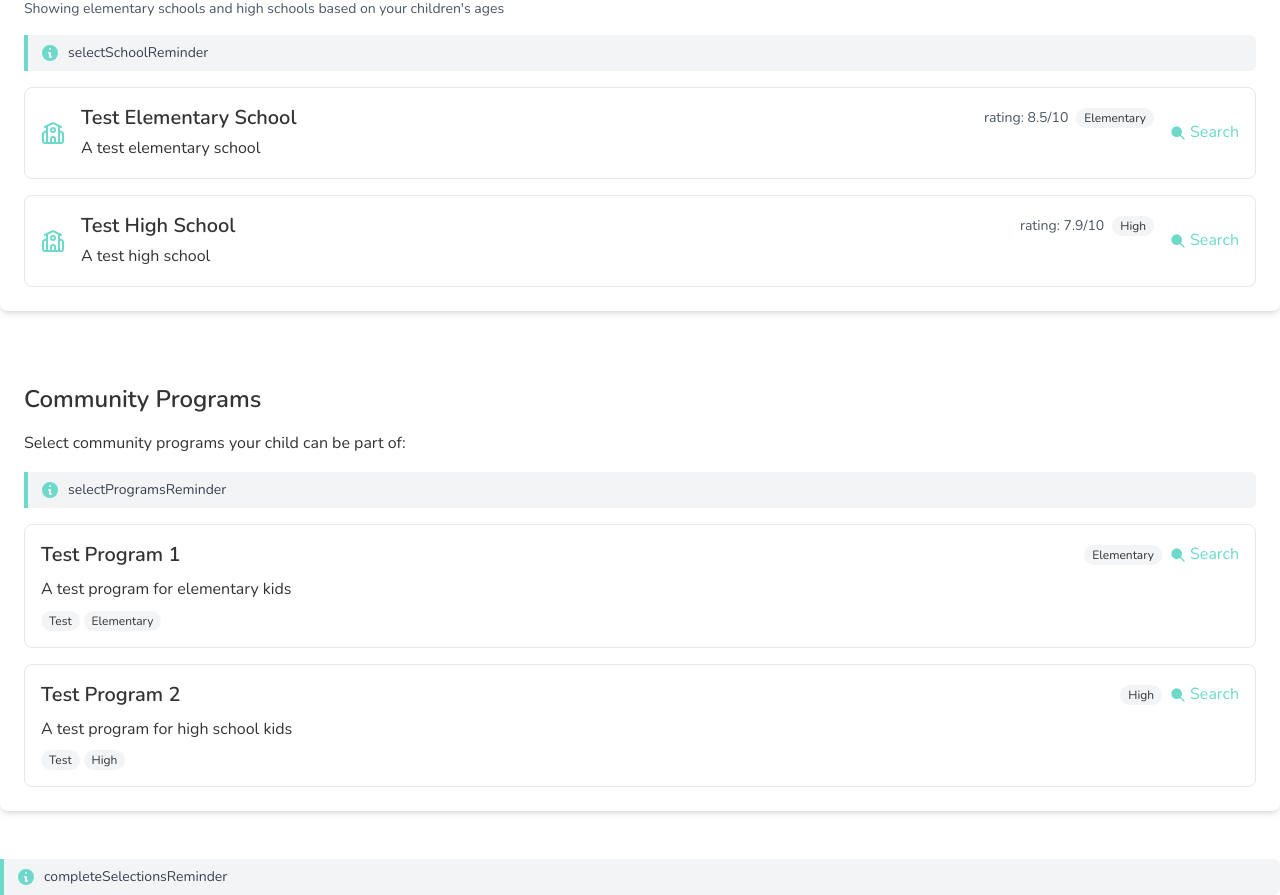
Test: Stay Component › User Interactions › allows selecting community programs
(page scrolled)
Click the heading "Test Program 1" at (111, 555), box [41, 541, 180, 569]
(page scrolled)
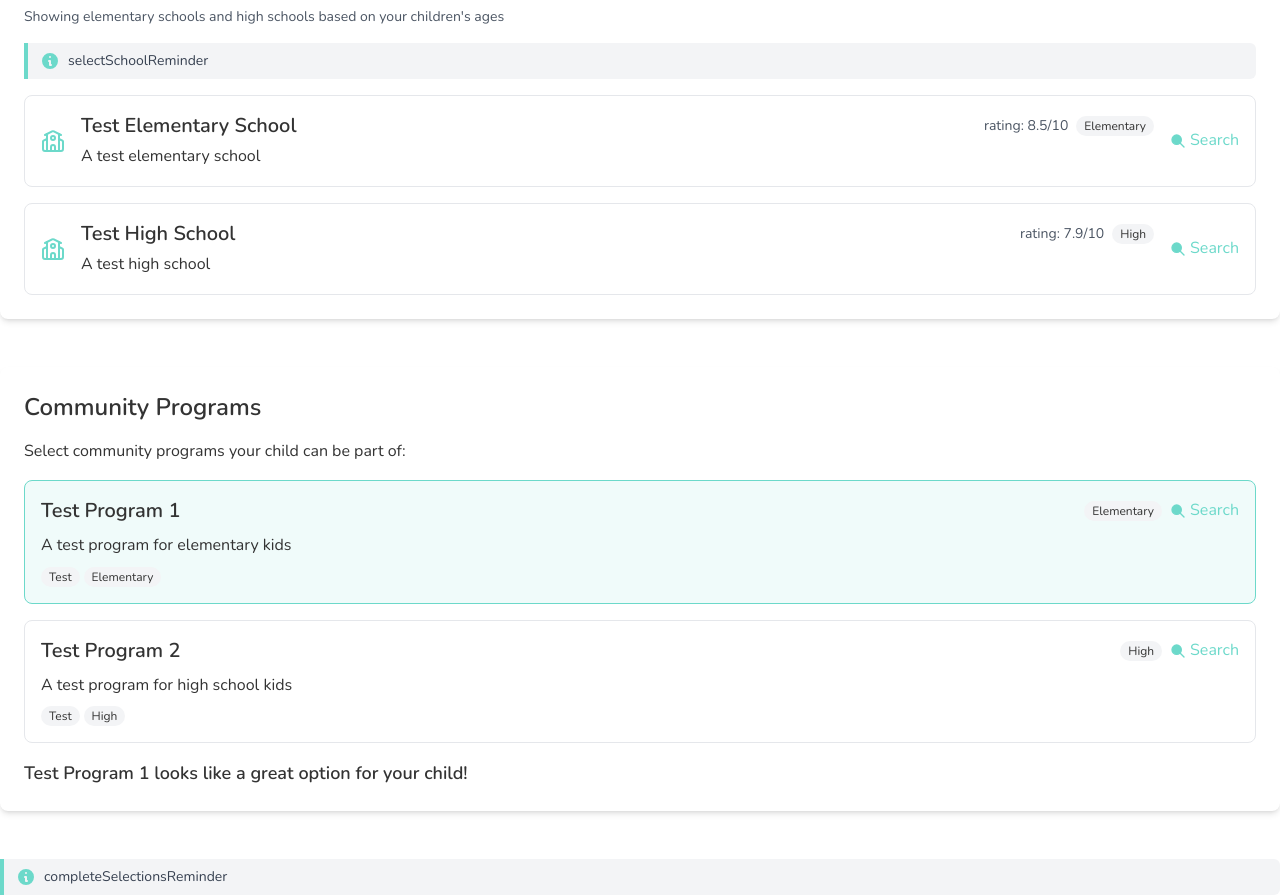
Expected: the text "Test Program 1 looks like a great option for your child!" is shown, [24, 761, 468, 785]
